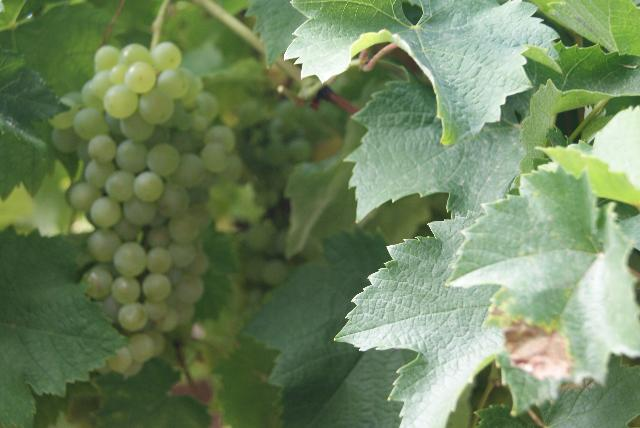grapes: (50, 41, 242, 378)
